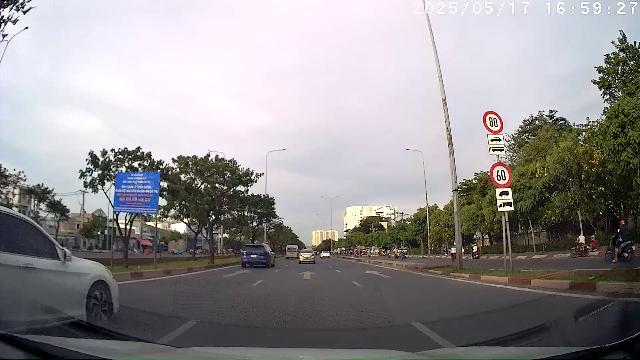127-toc-do-toi-da-60: (490, 163, 512, 188)
127-toc-do-toi-da-80: (483, 111, 504, 134)
